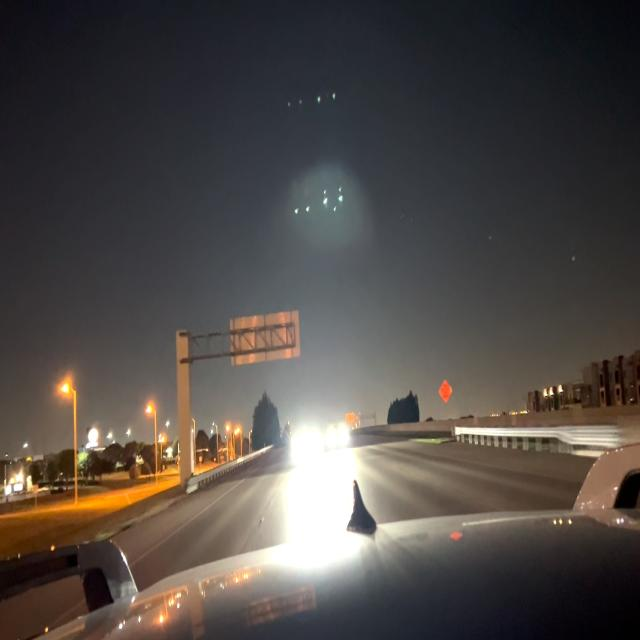back-of-sign: (229, 312, 301, 369)
